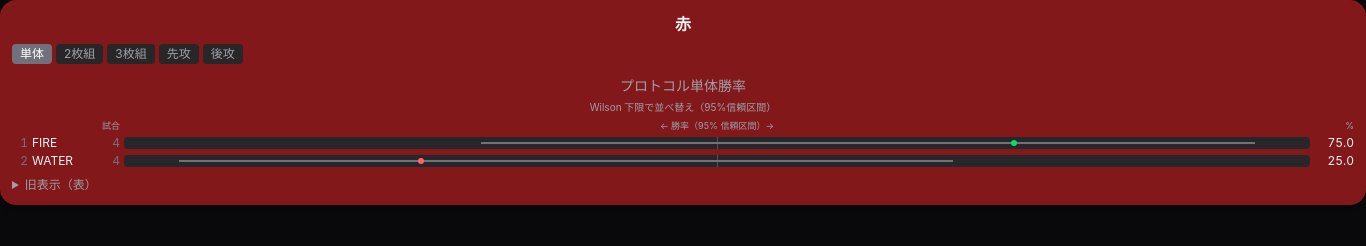
it: Stat › 全ペアの試合数がデフォルト下限未満でも forest とスライダーを描画する
Click the tab "2枚組".
click(80, 54)  # box [56,44,103,64]
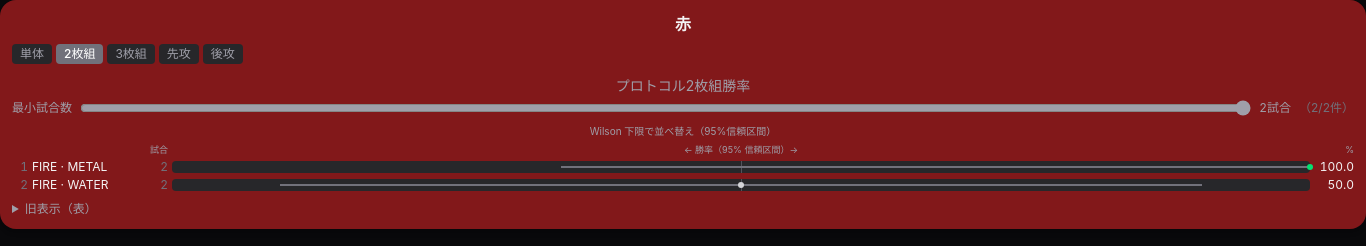
Expected: the slider is shown, [80,100,1251,116]
Expected: the text "FIRE · WATER" is shown, [32,177,108,192]
Expected: the text "FIRE · METAL" is shown, [32,159,107,174]
